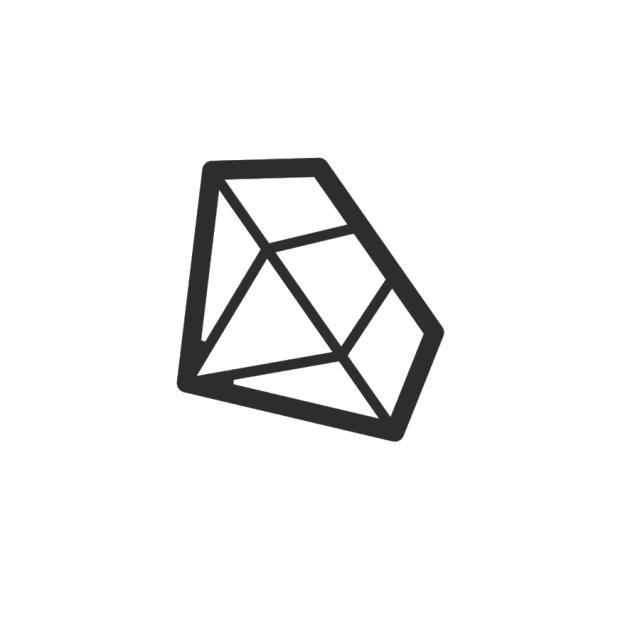diamond: (170, 153, 449, 450)
